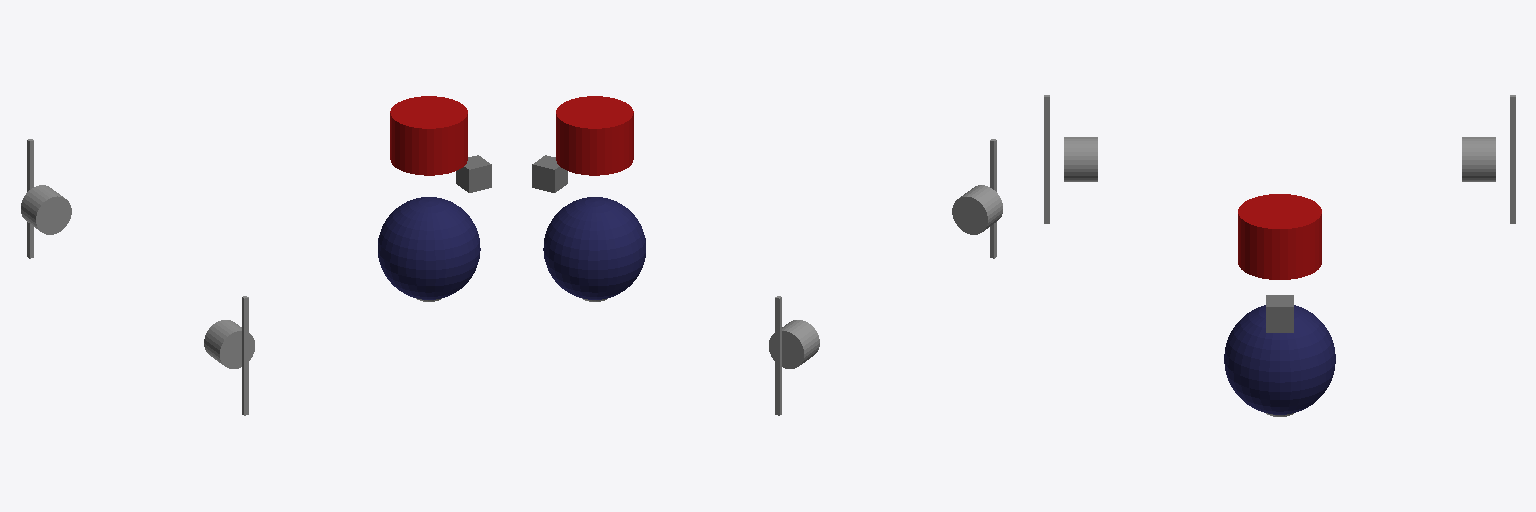
The robot description file, URDF, robot "robot":
<?xml version="1.0"?>

<robot name="robot">

    <!-- Materials -->
    <gazebo reference="link_chassis">
        <visual>
            <material> <!-- Blue -->
                <ambient>0.0 0.0 1.0 1.0</ambient>
                <diffuse>0.0 0.0 1.0 1.0</diffuse>
                <specular>0.0 0.0 0.0 1.0</specular>
                <emissive>0.0 0.0 0.0 1.0</emissive>
            </material>
        </visual>
    </gazebo>
    <gazebo reference="link_caster_wheel">
        <visual>
            <material> <!-- Gray -->
                <ambient>0.25 0.25 0.25 1.0</ambient>
                <diffuse>0.25 0.25 0.25 1.0</diffuse>
                <specular>0.0 0.0 0.0 1.0</specular>
                <emissive>0.0 0.0 0.0 1.0</emissive>
            </material>
        </visual>
        <collision>
            <surface>
                <friction>
                    <ode>
                        <mu>0.0</mu>
                        <mu2>0.0</mu2>
                    </ode>
                </friction>
            </surface>
        </collision>
    </gazebo>
    <gazebo reference="link_left_wheel">
        <visual>
            <material> <!-- Black -->
                <ambient>0.1 0.1 0.1 1.0</ambient>
                <diffuse>0.1 0.1 0.1 1.0</diffuse>
                <specular>0.0 0.0 0.0 1.0</specular>
                <emissive>0.0 0.0 0.0 1.0</emissive>
            </material>
        </visual>
        <collision>
            <surface>
                <friction>
                    <ode>
                        <mu>1.0</mu>
                        <mu2>1.0</mu2>
                    </ode>
                </friction>
            </surface>
        </collision>
    </gazebo>
    <gazebo reference="link_right_wheel">
        <visual>
            <material> <!-- Black -->
                <ambient>0.1 0.1 0.1 1.0</ambient>
                <diffuse>0.1 0.1 0.1 1.0</diffuse>
                <specular>0.0 0.0 0.0 1.0</specular>
                <emissive>0.0 0.0 0.0 1.0</emissive>
            </material>
        </visual>
        <collision>
            <surface>
                <friction>
                    <ode>
                        <mu>1.0</mu>
                        <mu2>1.0</mu2>
                    </ode>
                </friction>
            </surface>
        </collision>
    </gazebo>

    <!-- Link - chassis -->
    <link name="link_chassis">
        <inertial>
            <mass value="10" />
            <origin xyz="0 0 0.3" rpy="0 0 0" />
            <inertia ixx="1.5417" ixy="0" ixz="0" iyy="3.467" iyz="0" izz="4.742" />
        </inertial>

        <collision>
            <!-- <geometry>
                <box size="2 1.3 0.4" />
            </geometry> -->
            <geometry>
                <mesh filename="package://robot_description/meshes/chassis.stl" />
            </geometry>
        </collision>

        <visual>
            <geometry>
                <mesh filename="package://robot_description/meshes/chassis.stl" />
            </geometry>
            <!-- <geometry>
                <box size="2 1.3 0.4" />
            </geometry> -->
            <material name="DarkBlue">
                <color rgba="0.2 0.2 0.4 1" />
            </material>
        </visual>
    </link>

    <!-- Joint - caster wheel -->
    <joint name="joint_chassis_caster_wheel" type="fixed">
        <origin rpy="0 0 0" xyz="0.8 0 -0.15" />
        <child link="link_caster_wheel" />
        <parent link="link_chassis" />
        <joint_properties damping="1.0" friction="1.0" />
    </joint>

    <gazebo reference="joint_chassis_caster_wheel">
        <preserveFixedJoint>true</preserveFixedJoint>
    </gazebo>
    
    <!-- Link - caster wheel -->
    <link name="link_caster_wheel">
        <inertial>
            <mass value="1" />
            <origin xyz="0 0 0" rpy="0 0 0" />
            <inertia ixx="0.002526666666667" ixy="0" ixz="0" iyy="0.002526666666667" iyz="0" izz="0.005"/>
        </inertial>

        <!-- Caster wheel support -->
        <collision>
            <origin rpy="0 0 0" xyz="0 0 -0.03" />
            <geometry>
                <sphere radius="0.2" />
            </geometry>
        </collision>
        <visual>
            <origin rpy="0 0 0" xyz="0 0 -0.03" />
            <geometry>
                <sphere radius="0.2" />
            </geometry>
            <material name="DarkBlue">
                <color rgba="0.2 0.2 0.4 1" />
            </material>
        </visual>

        <!-- Caster wheel -->
        <collision>
            <origin rpy="0 0 0" xyz="0 0 -0.15" />
            <geometry>
                <sphere radius="0.10" />
            </geometry>
        </collision>
        <visual>
            <origin rpy="0 0 0" xyz="0 0 -0.15" />
            <geometry>
                <sphere radius="0.10" />
            </geometry>
            <material name="Grey">
                <color rgba="0.6 0.6 0.6 1" />
            </material>
        </visual>
    </link>

    <!-- Joint - chassis / left wheel -->
    <joint name="joint_chassis_left_wheel" type="continuous">
        <origin rpy="0 0 0" xyz="-0.5 0.65 0" />
        <child link="link_left_wheel" />
        <parent link="link_chassis" />
        <axis rpy="0 0 0" xyz="0 1 0" />
        <limit effort="10000" velocity="1000" />
        <joint_properties damping="1.0" friction="1.0" />
    </joint>
    
    <!-- Link - left wheel -->
    <link name="link_left_wheel">
        <inertial>
            <mass value="1" />
            <origin xyz="0 0 0" rpy="0 0 0" />
            <inertia ixx="0.002526666666667" ixy="0" ixz="0" iyy="0.002526666666667" iyz="0" izz="0.005"/>
        </inertial>

        <!-- Tires -->
        <collision>
            <origin rpy="1.5707 0 0" xyz="0 0.18 0" />
            <geometry>
                <cylinder length="0.12" radius="0.4"/>
            </geometry>
        </collision>
        <visual>
            <origin rpy="1.5707 0 0" xyz="0 0.18 0" />
            <geometry>
                <mesh filename="package://robot_description/meshes/wheel.stl" />
            </geometry>
            <material name="Black">
                <color rgba="0.1 0.1 0.1 1" />
            </material>
        </visual>

        <!-- Axle -->
        <collision>
            <origin rpy="1.5707 0 0" xyz="0 0.06 0" />
            <geometry>
                <cylinder length="0.12" radius="0.08"/>
            </geometry>
        </collision>
        <visual>
            <origin rpy="1.5707 0 0" xyz="0 0.06 0" />
            <geometry>
                <cylinder length="0.12" radius="0.08"/>
            </geometry>
            <material name="Grey">
                <color rgba="0.6 0.6 0.6 1" />
            </material>
        </visual>

        <!-- Hubcap -->
        <visual>
            <origin rpy="1.5707 0 0" xyz="0 0.18 0" />
            <geometry>
                <box size="0.02 0.5 0.02" />
            </geometry>
            <material name="Grey">
                <color rgba="0.6 0.6 0.6 1" />
            </material>
        </visual>
    </link>

    <!-- Joint - chassis / right wheel -->
    <joint name="joint_chassis_right_wheel" type="continuous">
        <origin rpy="0 0 0" xyz="-0.5 -0.65 0" />
        <child link="link_right_wheel" />
        <parent link="link_chassis" />
        <axis rpy="0 0 0" xyz="0 1 0" />
        <limit effort="10000" velocity="1000" />
        <joint_properties damping="1.0" friction="1.0" />
    </joint>
    
    <!-- Link - right wheel -->
    <link name="link_right_wheel">
        <inertial>
            <mass value="1" />
            <origin xyz="0 0 0" rpy="0 0 0" />
            <inertia ixx="0.002526666666667" ixy="0" ixz="0" iyy="0.002526666666667" iyz="0" izz="0.005"/>
        </inertial>

        <!-- Tires -->
        <collision>
            <origin rpy="1.5707 0 0" xyz="0 -0.18 0" />
            <geometry>
                <cylinder length="0.12" radius="0.4"/>
            </geometry>
        </collision>
        <visual>
            <origin rpy="1.5707 0 0" xyz="0 -0.18 0" />
            <geometry>
                <mesh filename="package://robot_description/meshes/wheel.stl" />
            </geometry>
            <material name="Black">
                <color rgba="0.1 0.1 0.1 1" />
            </material>
        </visual>

        <!-- Axle -->
        <collision>
            <origin rpy="1.5707 0 0" xyz="0 -0.06 0" />
            <geometry>
                <cylinder length="0.12" radius="0.08"/>
            </geometry>
        </collision>
        <visual>
            <origin rpy="1.5707 0 0" xyz="0 -0.06 0" />
            <geometry>
                <cylinder length="0.12" radius="0.08"/>
            </geometry>
            <material name="Grey">
                <color rgba="0.6 0.6 0.6 1" />
            </material>
        </visual>

        <!-- Hubcap -->
        <visual>
            <origin rpy="1.5707 0 0" xyz="0 -0.18 0" />
            <geometry>
                <box size="0.02 0.5 0.02" />
            </geometry>
            <material name="Grey">
                <color rgba="0.6 0.6 0.6 1" />
            </material>
        </visual>
    </link>



    <!-- Differential Drive Plugin -->
<gazebo>
  <plugin
      filename="libignition-gazebo-diff-drive-system.so"
      name="ignition::gazebo::systems::DiffDrive">
      <left_joint>joint_chassis_left_wheel</left_joint>
      <right_joint>joint_chassis_right_wheel</right_joint>
      <wheel_separation>1.66</wheel_separation>
      <wheel_radius>0.4</wheel_radius>
      <odom_publish_frequency>20</odom_publish_frequency>
      <topic>cmd_vel</topic>
      <odom_topic>odom</odom_topic>
      <tf_topic>tf</tf_topic>
      <frame_id>odom</frame_id>
      <child_frame_id>link_chassis</child_frame_id>
  </plugin>
</gazebo>


<!-- Gazebo tags - Laser scan -->
<gazebo reference="joint_laser_scan_chassis">
  <preserveFixedJoint>true</preserveFixedJoint>
</gazebo>
<gazebo reference="link_laser_scan">
  <material>Gazebo/DarkGrey</material>
</gazebo>

<!-- Laser scan -->
<joint name="joint_laser_scan_chassis" type="fixed">
  <origin rpy="0 0 0" xyz="0.8 0 0.3" />
  <child link="link_laser_scan" />
  <parent link="link_chassis" />
  <joint_properties damping="1.0" friction="1.0" />
</joint>


<link name="link_laser_scan">
  <inertial>
      <origin xyz="0 0 0" rpy="0 0 0" />
      <mass value="0.5" />
      <inertia ixx="0.000252666666667" ixy="0" ixz="0" iyy="0.000252666666667" iyz="0" izz="0.0005"/>
  </inertial>
  <visual>
      <origin xyz="0 0 0" rpy="0 0 0" />
      <geometry>
          <cylinder radius="0.15" length="0.20"/>
      </geometry>
      <material name="Red">
          <color rgba="0.7 0.1 0.1 1" />
      </material>
  </visual>
  <collision>
      <origin xyz="0 0 0" rpy="0 0 0"/>
      <geometry>
          <cylinder radius="0.15" length="0.20"/>
      </geometry>
  </collision>
</link>


<!-- Laser Scanner Plugin -->
<gazebo>
  <plugin
    filename="libignition-gazebo-sensors-system"
    name="ignition::gazebo::systems::Sensors">
    <!-- use ogre2 if ogre v2.x is installed, otherwise use ogre -->
    <render_engine>ogre2</render_engine>
  </plugin>
</gazebo>
<gazebo reference="link_laser_scan">
  <sensor type="gpu_lidar" name="head_hokuyo_sensor">
      <pose relative_to='lidar_frame'>0 0 0 0 0 0</pose>
      <always_on>1</always_on>
      <visualize>true</visualize>
      <update_rate>20</update_rate>
      <topic>/laser/scan</topic>
      <ray>
          <scan>
              <horizontal>
                  <samples>720</samples>
                  <resolution>1</resolution>
                  <min_angle>-1.570796</min_angle>
                  <max_angle>1.570796</max_angle>
              </horizontal>
          </scan>
          <range>
              <min>0.20</min>
              <max>10.0</max>
              <resolution>0.01</resolution>
          </range>
          <noise>
              <type>gaussian</type>
              <mean>0.0</mean>
              <stddev>0.01</stddev>
          </noise>
      </ray>
  </sensor>
</gazebo>


<!-- Gazebo tags - camara -->
<gazebo reference="rgb_camera_link_frame_joint">
  <preserveFixedJoint>true</preserveFixedJoint>
</gazebo>
<gazebo reference="rgb_camera_link_frame">
  <material>Gazebo/DarkGrey</material>
</gazebo>


<link name="rgb_camera_link_frame">
  <inertial>
      <origin xyz="0 0 0" rpy="0 0 0" />
      <mass value="0.5" />
      <inertia ixx="0.000252666666667" ixy="0" ixz="0" iyy="0.000252666666667" iyz="0" izz="0.0005"/>
  </inertial>
  <visual>
      <origin xyz="0 0 0" rpy="0 0 0" />
      <geometry>
          <box size="0.1 0.1 0.1"/>
      </geometry>
      <material name="Grey">
          <color rgba="0.5 0.5 0.5 1" />
      </material>
  </visual>
  <collision>
      <origin xyz="0 0 0" rpy="0 0 0"/>
      <geometry>
          <box size="0.1 0.1 0.1"/>
      </geometry>
  </collision>
</link>

<!-- Joint de la cámara -->
<joint name="rgb_camera_link_frame_joint" type="fixed">
  <origin rpy="0 0 0" xyz="1 0 0.09"/>
  <parent link="link_chassis"/>
  <child link="rgb_camera_link_frame" />
</joint>

<!-- Plugin de la cámara para Gazebo -->
<gazebo reference="rgb_camera_link_frame">
  <sensor name="camera" type="camera">
    <camera>
      <horizontal_fov>1.3962634</horizontal_fov>
      <image>
        <width>800</width>
        <height>800</height>
        <format>R8G8B8</format>
      </image>
      <clip>
        <near>0.1</near>
        <far>100.0</far>
      </clip>
    </camera>
    <always_on>1</always_on>
    <update_rate>30</update_rate>
    <plugin name="camera_controller" filename="libgazebo_ros_camera.so">
      <cameraName>rgb_camera</cameraName>
      <imageTopicName>image_raw</imageTopicName>
      <cameraInfoTopicName>camera_info</cameraInfoTopicName>
      <frameName>rgb_camera_link_frame</frameName>
    </plugin>
  </sensor>
  </gazebo>


</robot>

--- Facts derived from the render (not from the file) ---
3 views of the same robot in one strip: view 1: azimuth 30°, elevation 25°; view 2: azimuth 150°, elevation 25°; view 3: azimuth 270°, elevation 25° (orthographic).
Model robot with 6 links and 5 joints (2 continuous, 3 fixed), rooted at link_chassis, posed every joint at zero.
Visible links, largest first — view 1: link_caster_wheel, link_laser_scan, link_left_wheel, link_right_wheel, rgb_camera_link_frame; view 2: link_caster_wheel, link_laser_scan, link_right_wheel, link_left_wheel, rgb_camera_link_frame; view 3: link_caster_wheel, link_laser_scan, link_left_wheel, link_right_wheel, rgb_camera_link_frame.
Boxes of the visible links, left/top/right/bottom form: link_caster_wheel: left=378, top=197, right=480, bottom=301; link_laser_scan: left=390, top=96, right=467, bottom=175; link_left_wheel: left=21, top=139, right=71, bottom=258; link_right_wheel: left=204, top=296, right=254, bottom=415; rgb_camera_link_frame: left=456, top=155, right=491, bottom=192; link_caster_wheel: left=543, top=197, right=645, bottom=301; link_laser_scan: left=556, top=96, right=633, bottom=175; link_right_wheel: left=952, top=139, right=1002, bottom=258; link_left_wheel: left=769, top=296, right=819, bottom=415; rgb_camera_link_frame: left=532, top=155, right=567, bottom=192; link_caster_wheel: left=1224, top=305, right=1335, bottom=416; link_laser_scan: left=1238, top=194, right=1321, bottom=279; link_left_wheel: left=1462, top=95, right=1515, bottom=223; link_right_wheel: left=1044, top=95, right=1097, bottom=223; rgb_camera_link_frame: left=1266, top=295, right=1293, bottom=332.
Bounding box of the posed robot: 1.63 × 1.68 × 0.8 m (x, y, z).
0 mesh visuals loaded from 2 distinct referenced files (none loaded); not drawn: 3 (reference not matched to a file when rendering).